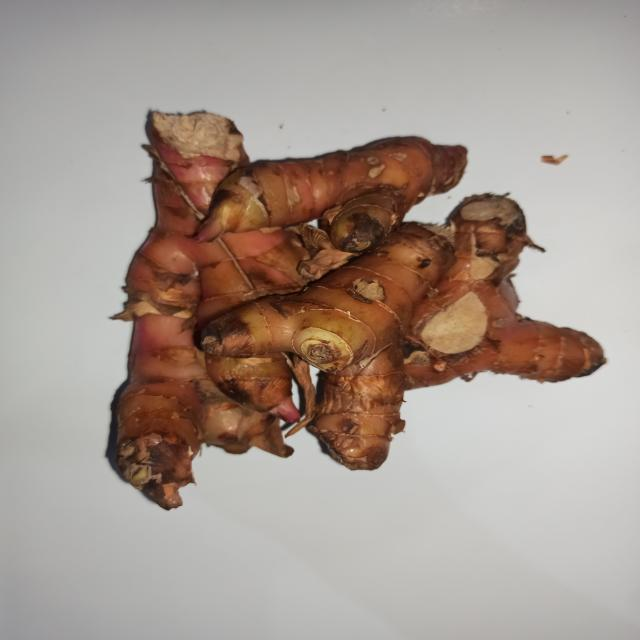ginger: (103, 112, 584, 462)
